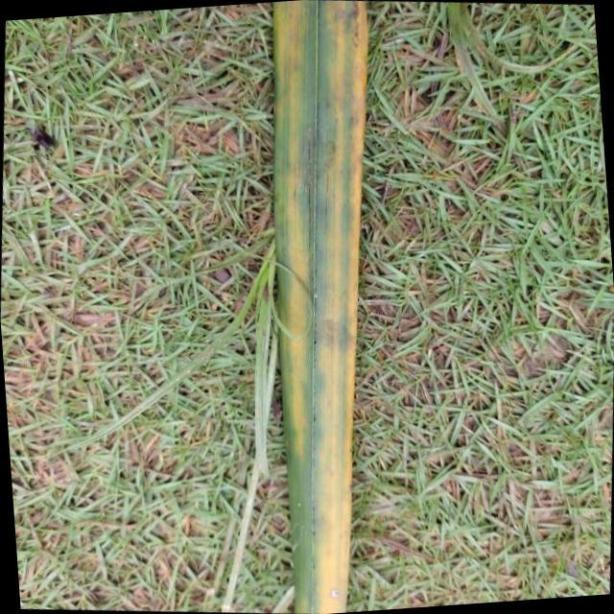Megnesium: (278, 0, 373, 614)
